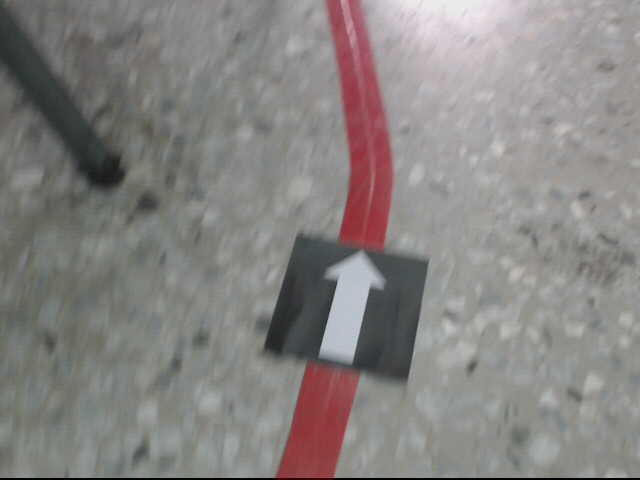straight: (265, 230, 431, 385)
